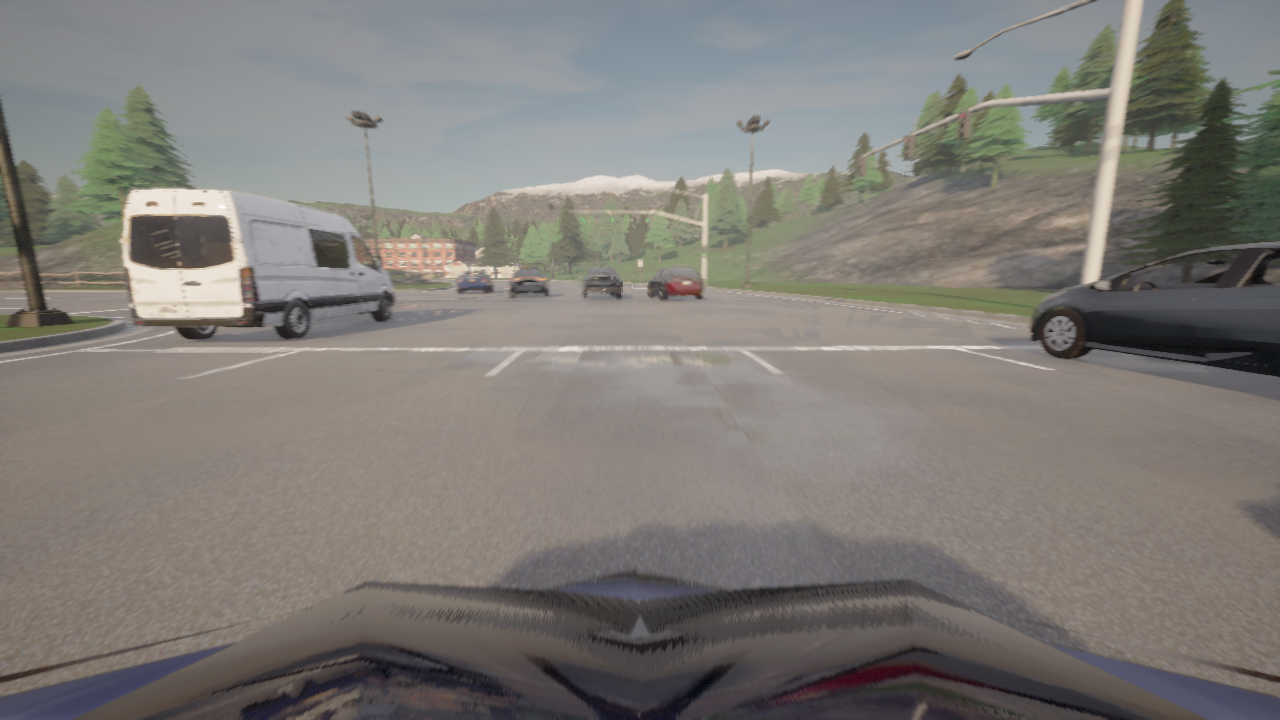cyclist: (0, 569, 1279, 719), (120, 188, 394, 339), (1029, 242, 1279, 377), (648, 267, 703, 299), (577, 267, 621, 298), (509, 267, 549, 297), (456, 269, 492, 293), (673, 264, 701, 276)
